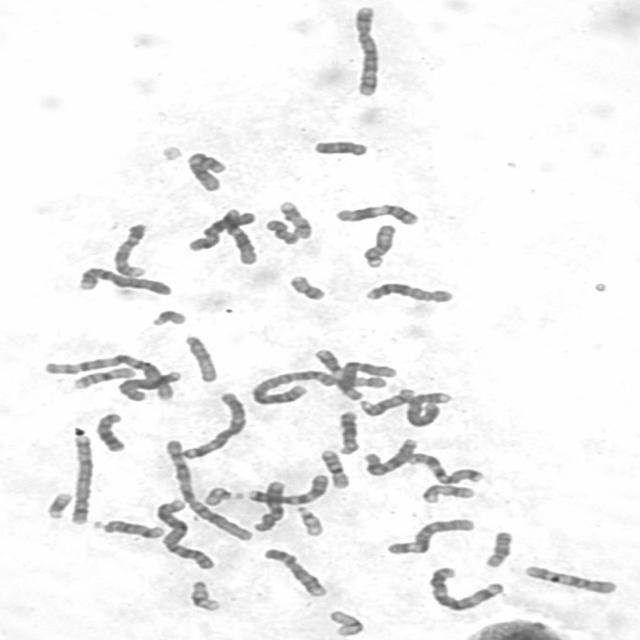A1: (161, 436, 255, 543), (38, 349, 177, 402)
A2: (246, 365, 394, 406), (150, 496, 218, 572)
A3: (177, 388, 249, 461), (424, 563, 506, 613)
B4: (73, 264, 174, 297), (401, 388, 454, 428)
B5: (348, 1, 383, 98), (64, 432, 96, 525)
C10: (519, 562, 620, 596), (248, 478, 288, 533)
C11: (310, 346, 384, 390), (331, 201, 422, 227)
C12: (218, 206, 260, 266), (181, 148, 228, 193)
C6: (382, 516, 476, 556), (333, 358, 398, 401)
C7: (243, 470, 331, 506), (402, 450, 486, 485)
C8: (364, 280, 456, 306), (114, 368, 184, 402)
C9: (259, 545, 329, 598), (108, 220, 150, 279)
D13: (90, 408, 128, 454), (332, 407, 362, 456)
D14: (356, 386, 416, 418), (88, 517, 168, 540)
D15: (180, 332, 220, 384), (359, 222, 398, 270)
E16: (67, 364, 139, 389), (316, 447, 353, 490)
E17: (274, 197, 314, 240), (417, 482, 477, 505)
E18: (480, 528, 515, 569), (313, 139, 370, 158)
F19: (184, 577, 223, 613), (324, 607, 366, 638)
F20: (284, 272, 328, 302), (266, 219, 305, 246)
G21: (41, 488, 75, 521), (147, 307, 188, 327)
G22: (291, 502, 327, 538), (200, 484, 244, 507)
X: (183, 207, 258, 253), (359, 435, 420, 478)
